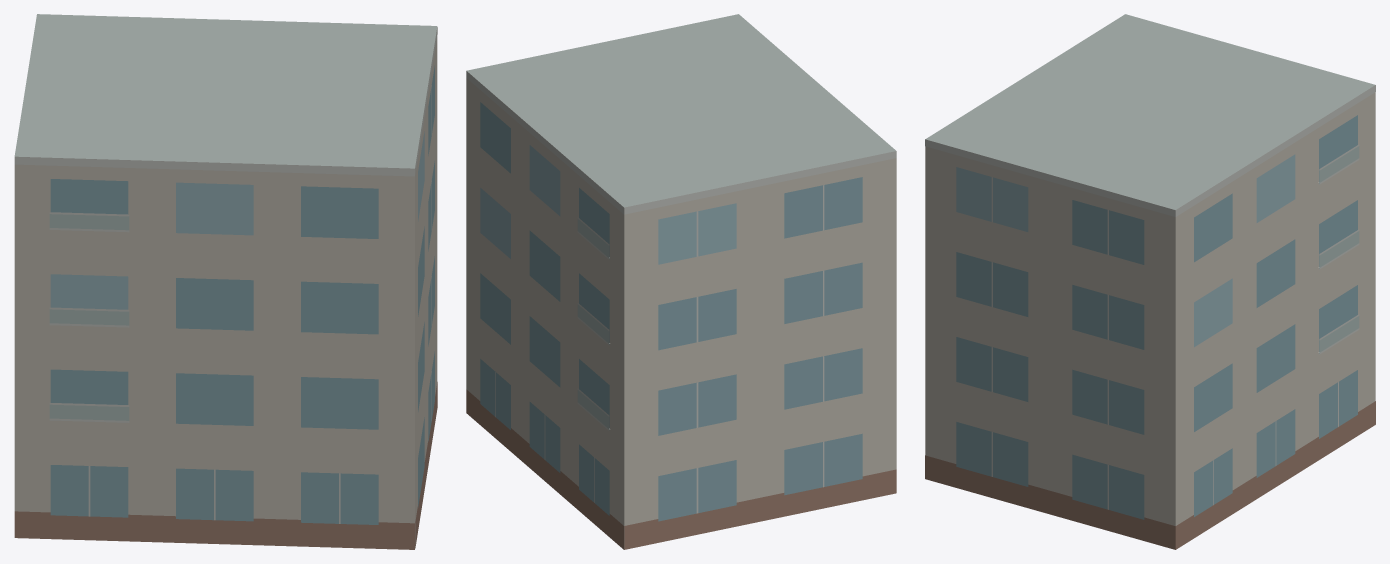
File: survey-upis-32694561.glb
3 views of the same model, side by side, from view 1: azimuth 30°, elevation 25°; view 2: azimuth 150°, elevation 25°; view 3: azimuth 270°, elevation 25° (orthographic). The views are drawn at different scales.
Parts seen in each view (by area): view 1: survey-upis-32694561.tmp; view 2: survey-upis-32694561.tmp; view 3: survey-upis-32694561.tmp.
Part boxes in pixels (<box>): survey-upis-32694561.tmp: <box>14,14,437,549</box>; survey-upis-32694561.tmp: <box>466,14,896,549</box>; survey-upis-32694561.tmp: <box>925,14,1375,549</box>.
Size of the model in its own units: 14.62 by 11.8 by 14.19.
